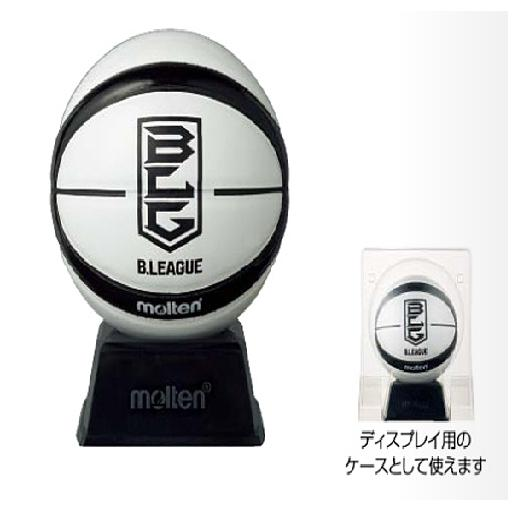ball: (49, 28, 289, 337)
